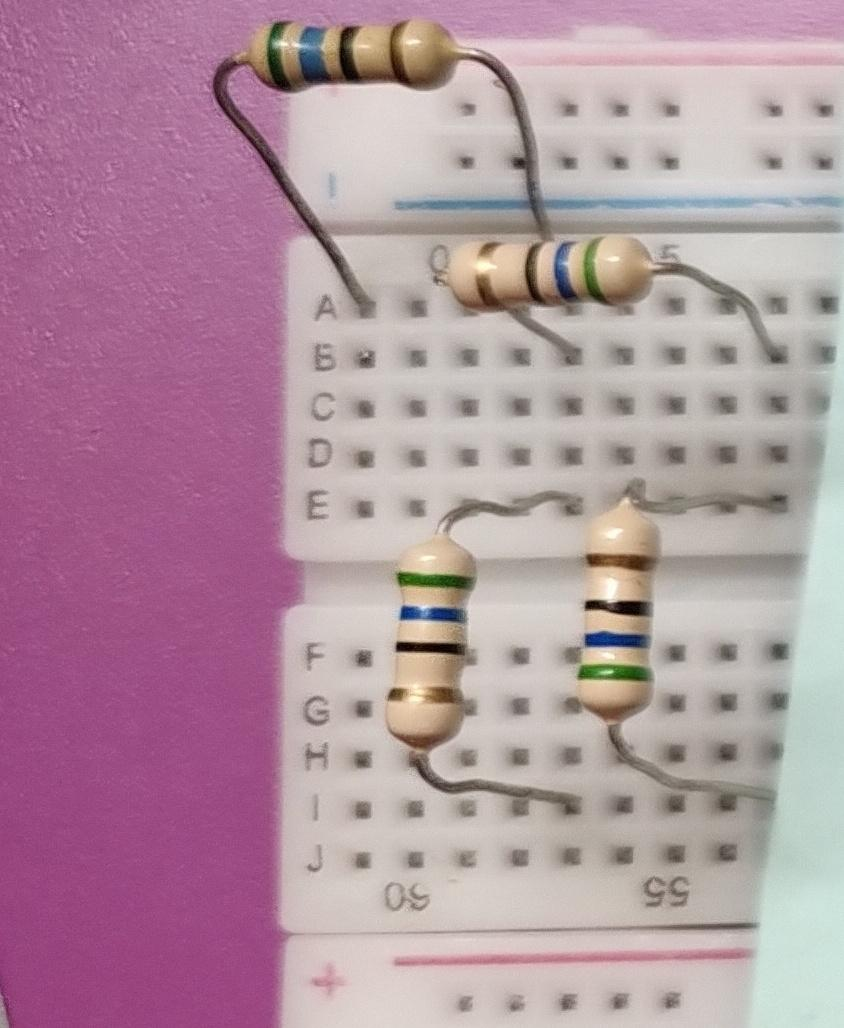resistor: (432, 225, 665, 328), (570, 500, 668, 740), (382, 538, 480, 752), (243, 10, 460, 100)
